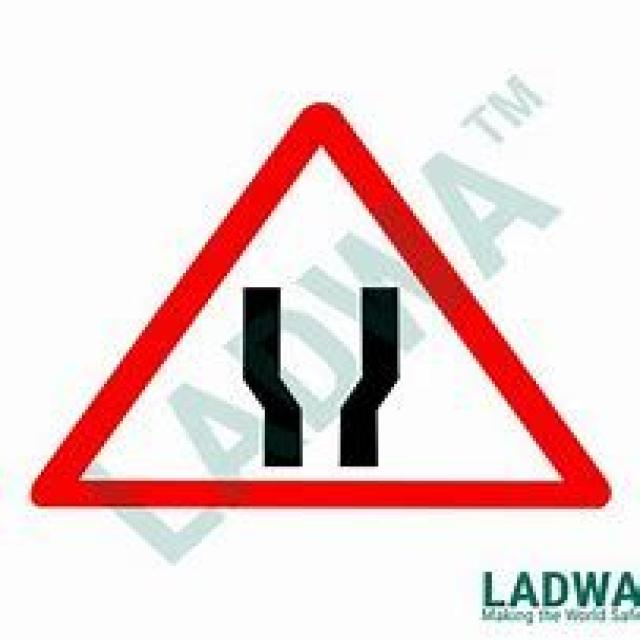do_not_turn_right: (25, 100, 609, 507)
